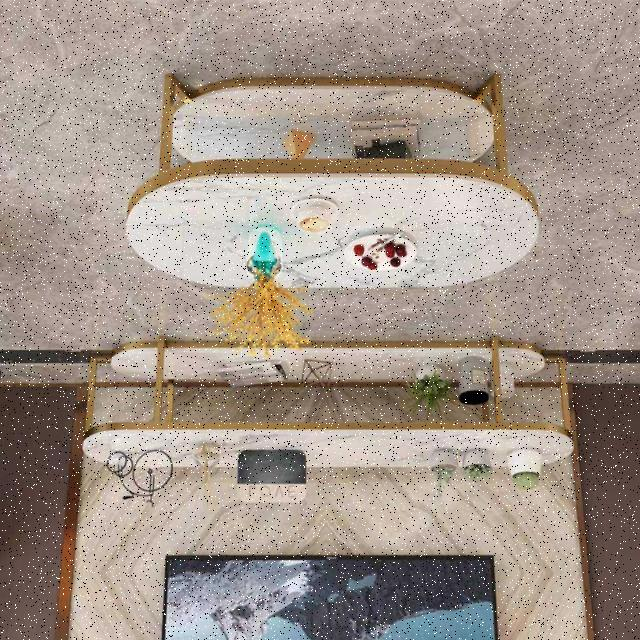mobile-phone: (116, 70, 554, 361)
